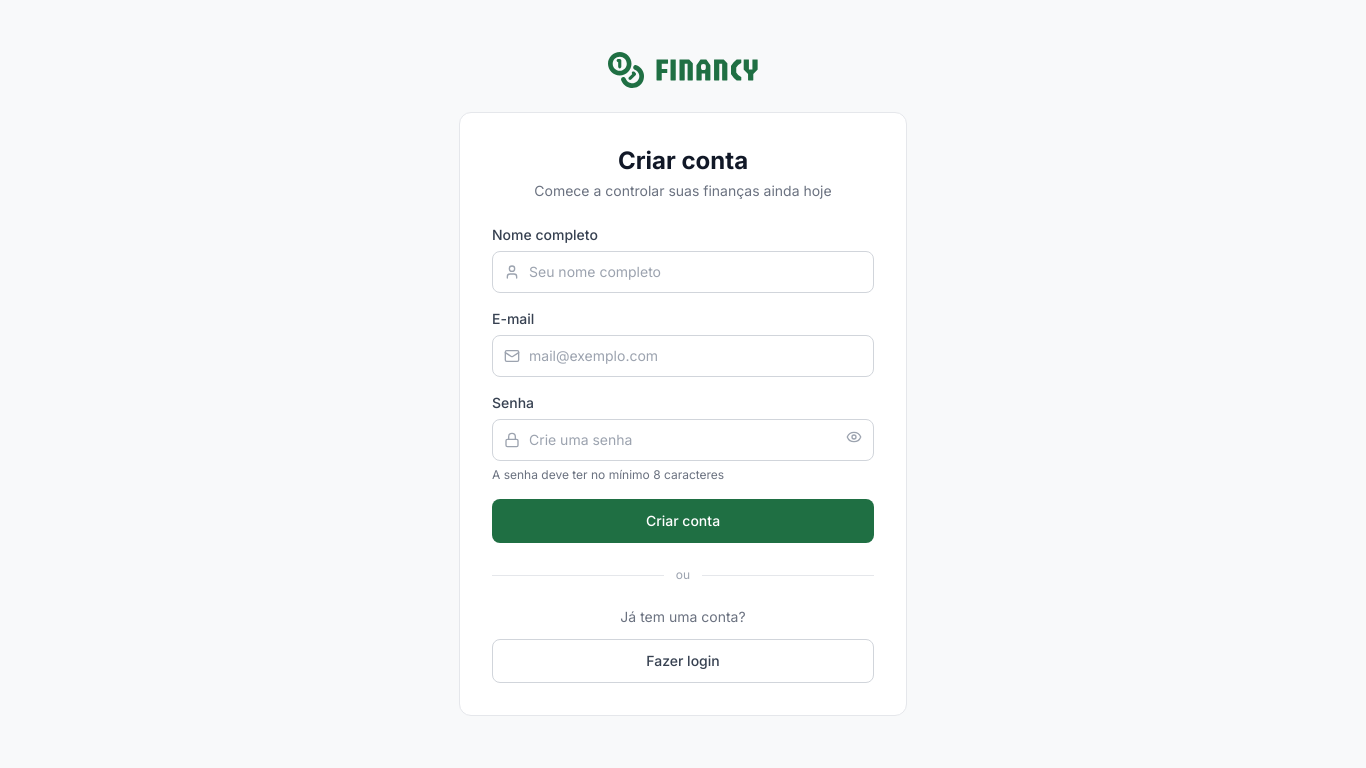
it: SignUpPage › creates the account, signs in and lands on the dashboard
This screenshot has width=1366, height=768.
Type "Ana Souza" into the field labelled "Nome completo".
click(683, 272); type("Ana Souza")  # box top-left (492, 251), bottom-right (874, 293)
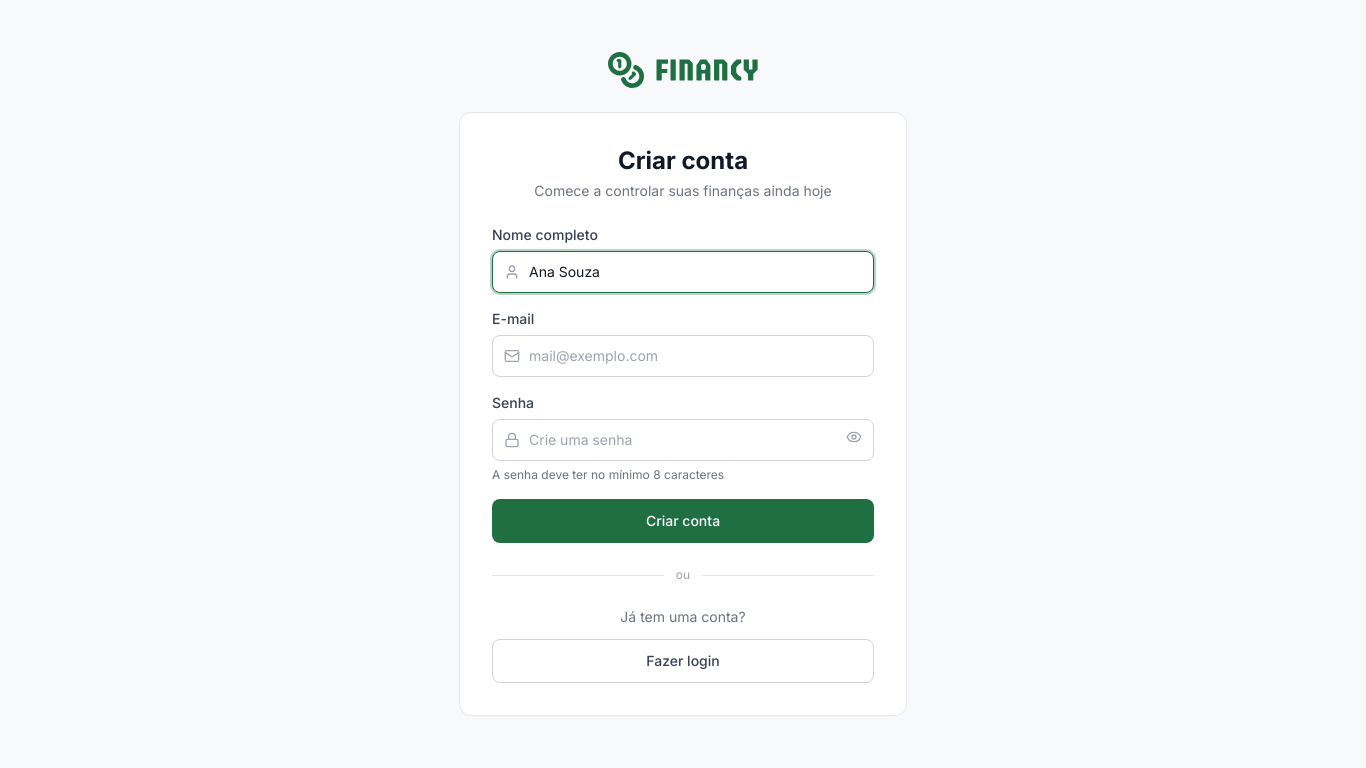
Type "ana@exemplo.com" into the field labelled "E-mail".
click(683, 356); type("ana@exemplo.com")  # box top-left (492, 335), bottom-right (874, 377)
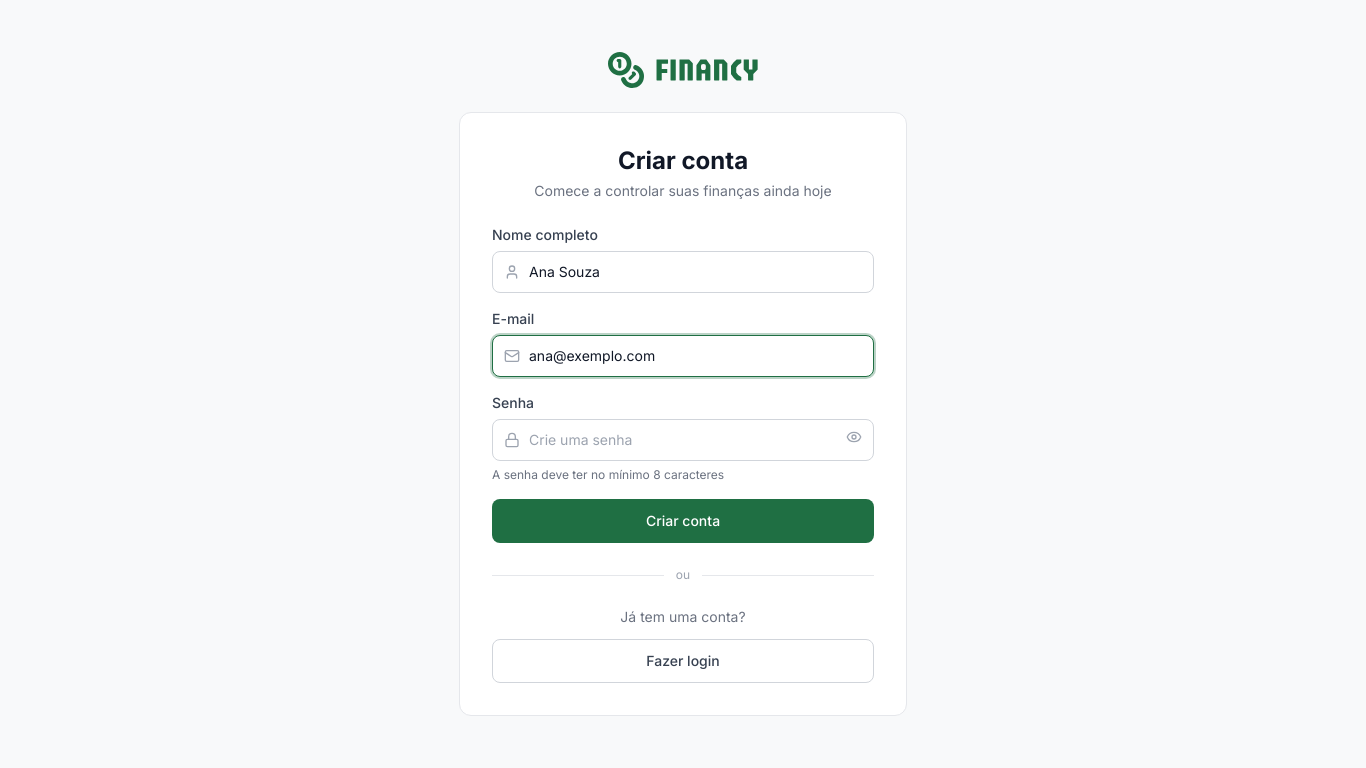
Type "uma-senha-boa" into the password field labelled "Senha".
click(683, 440); type("uma-senha-boa")  # box top-left (492, 419), bottom-right (874, 461)
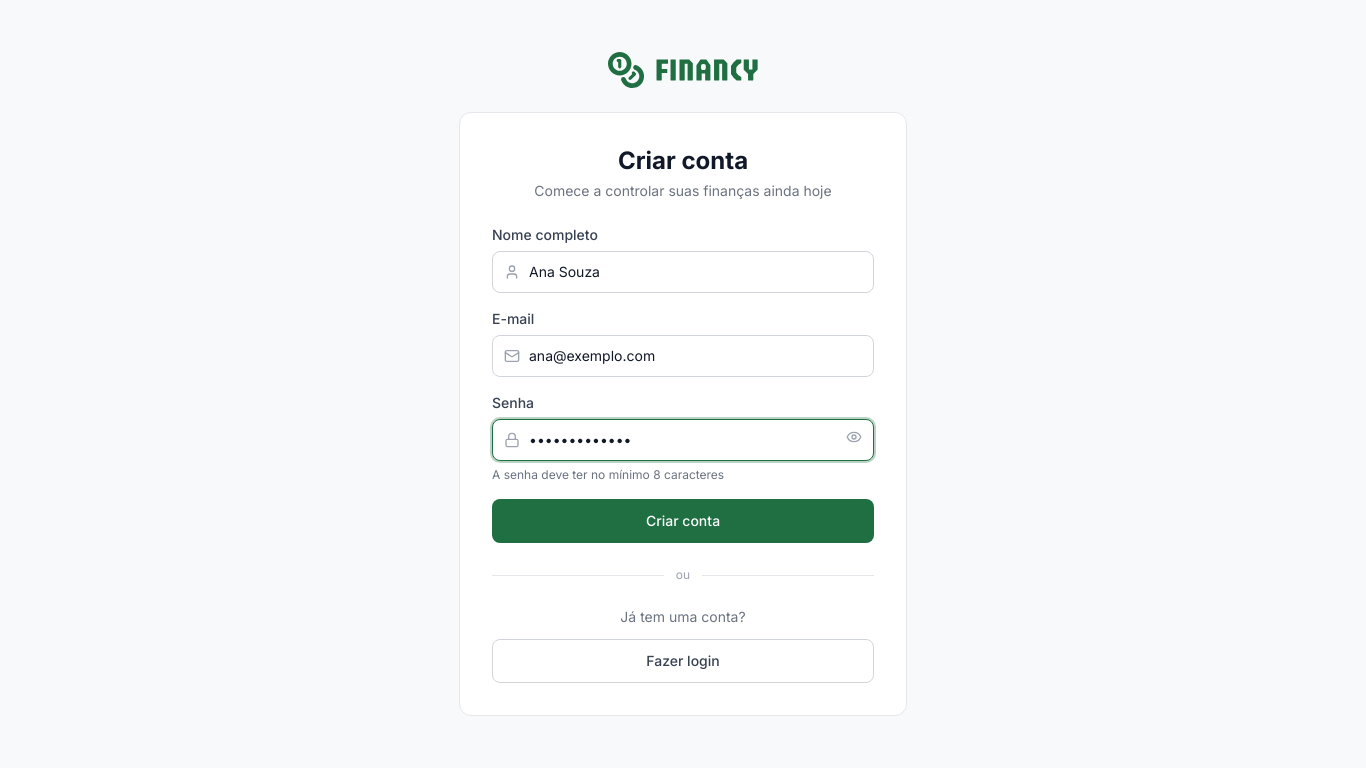
Click the button "Criar conta".
click(683, 521)  # box top-left (492, 499), bottom-right (874, 543)
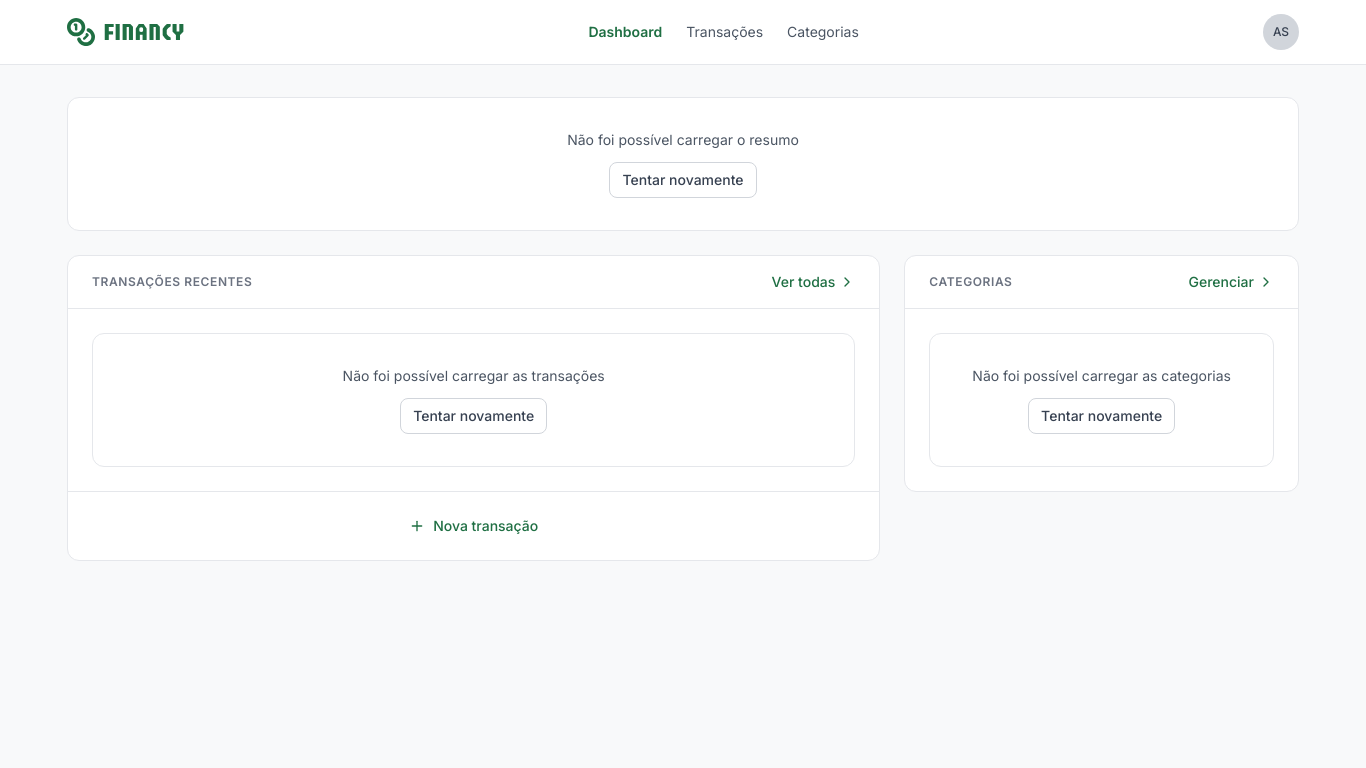
Expected: the element "Transações recentes" is shown, top-left (67, 255), bottom-right (880, 561)
